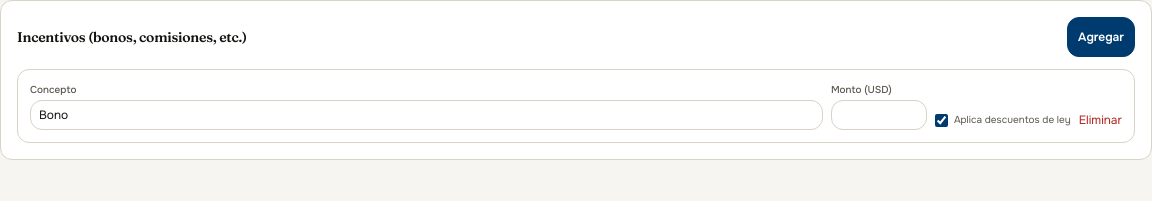
Test case: IncentivosForm › validarIncentivo numérica (Regla 4 en cliente, 2026-09-20) › el monto negativo escrito en el input muestra error inline
In the number field labelled "Monto (USD)": (879, 115) [831,100,927,130], type "-25"
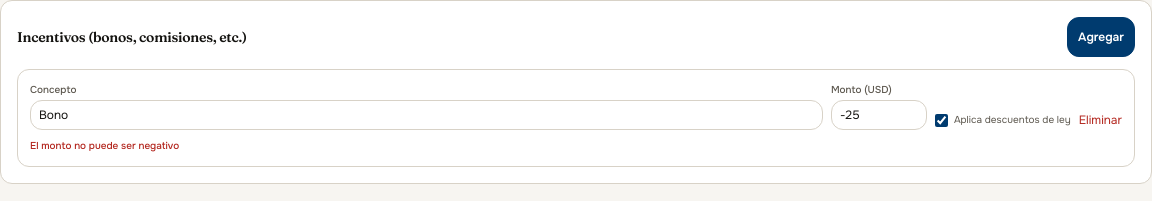
Result: the message shows "negativo" at [30,139,179,152]
